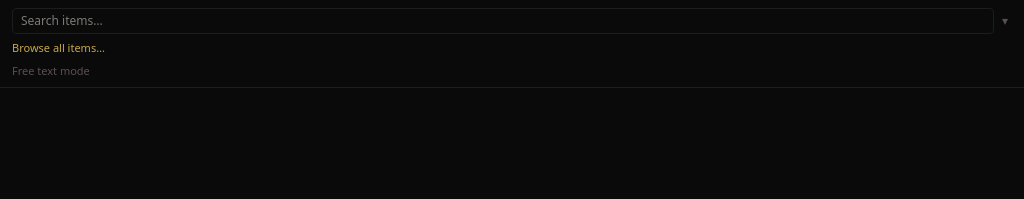
GearSlot › selecting a result transitions to populated-database state
Type "Iron" into the dropdown with placeholder "Search items…" at {"x": 503, "y": 21}, box [12, 8, 994, 34]
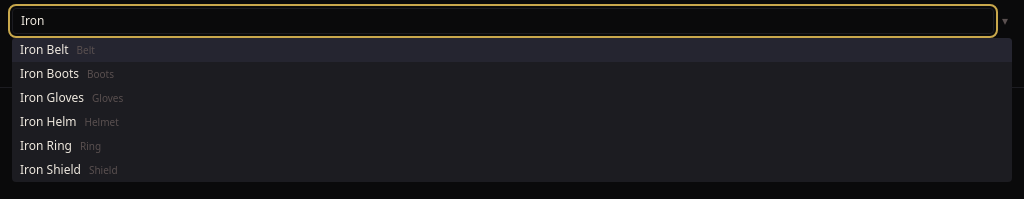
Now the text "Iron Helm" is shown
Click the text "Iron Helm" at {"x": 48, "y": 122}, box [20, 113, 77, 130]
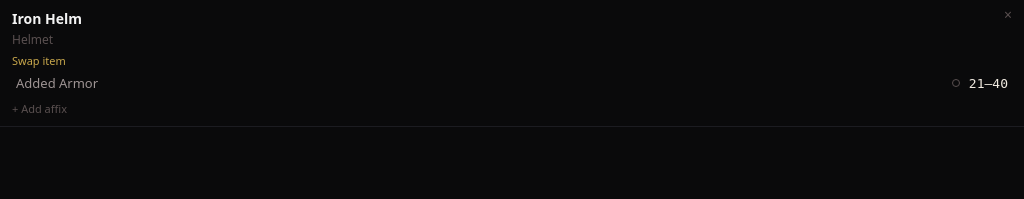
Now the text "Iron Helm" is shown, box [12, 8, 82, 29]
Now the text "Helmet" is shown, box [12, 31, 53, 48]
Now the slider named "Added Armor tier" is shown, box [952, 76, 1008, 90]
